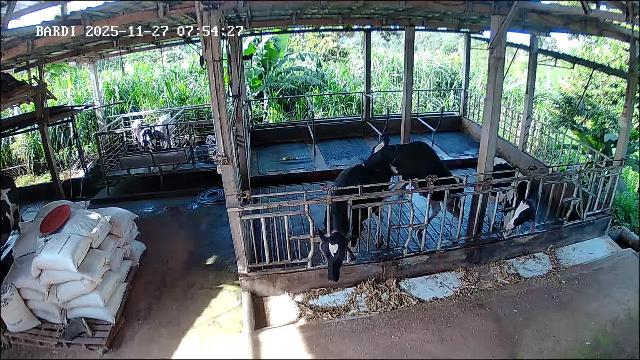mounting: (362, 140, 465, 238)
